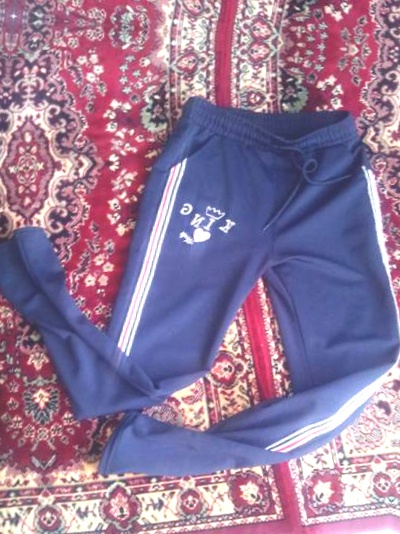Pants: (0, 55, 400, 515), (36, 0, 400, 19)
